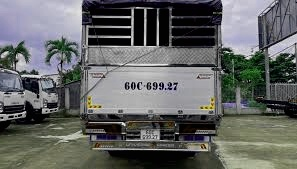Bien-so: (141, 129, 160, 141)
